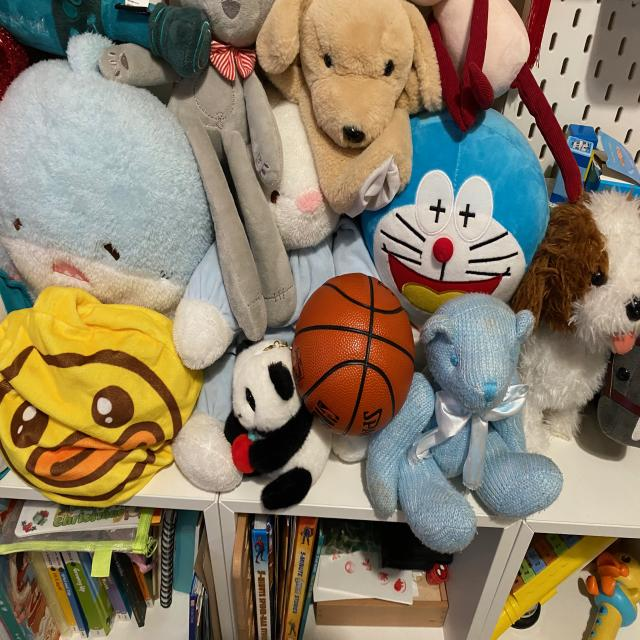Ball: (279, 257, 431, 450)
